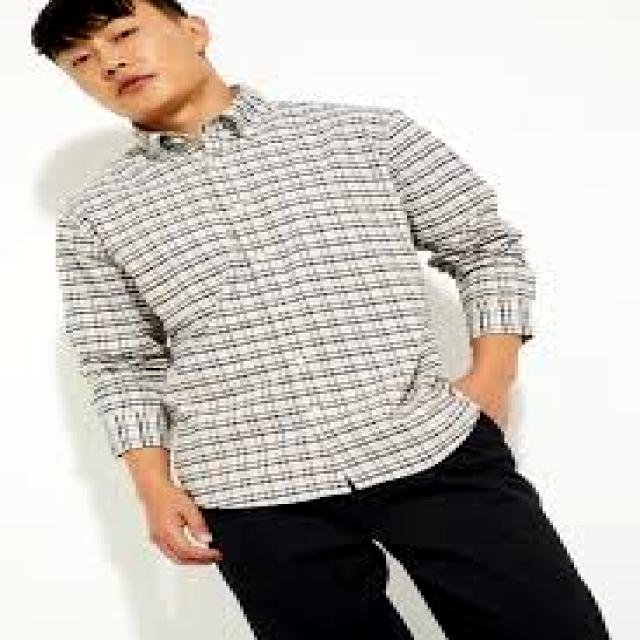face: (56, 0, 212, 121)
lower-wear: (202, 413, 608, 639)
top-wear: (56, 83, 535, 508)
